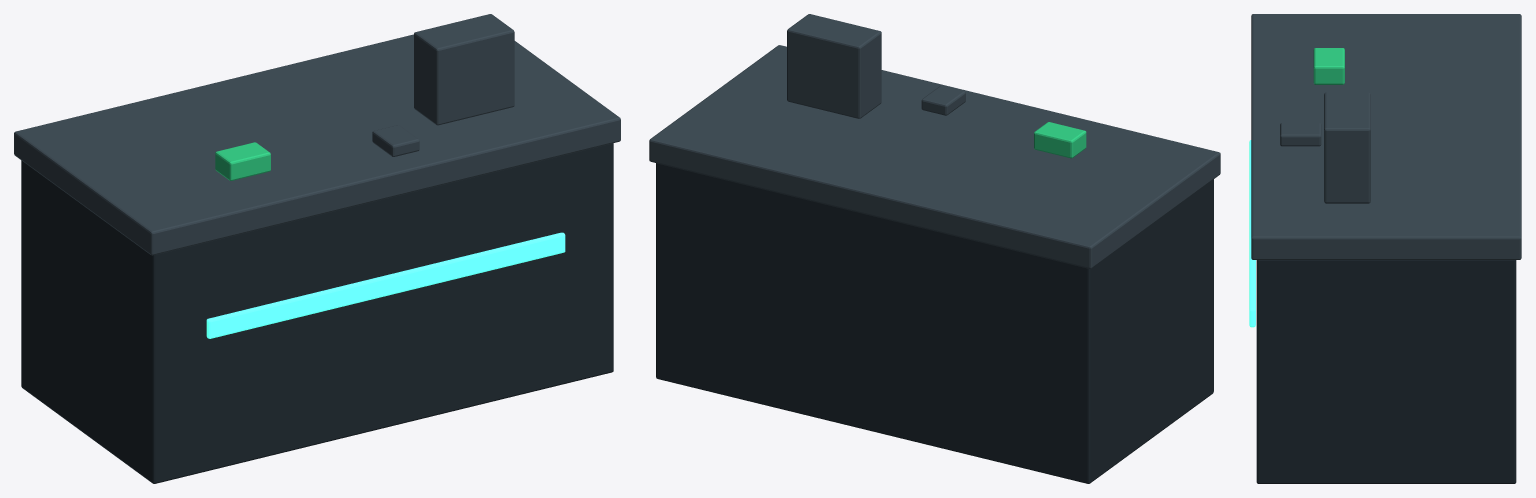
File: CC_S16_P2_Furniture_CheckoutCounter_LOD0.fbx
3 views of the same model, side by side, from view 1: azimuth 30°, elevation 25°; view 2: azimuth 150°, elevation 25°; view 3: azimuth 270°, elevation 25° (orthographic). The views are drawn at different scales.
Parts seen in each view (by area): view 1: CC_S16_P2_Furniture_CheckoutCounter_LOD0_Body, CC_S16_P2_Furniture_CheckoutCounter_LOD0_Countertop, CC_S16_P2_Furniture_CheckoutCounter_LOD0_POSTerminal, CC_S16_P2_Furniture_CheckoutCounter_LOD0_Accent, CC_S16_P2_Furniture_CheckoutCounter_LOD0_Scanner, CC_S16_P2_Furniture_CheckoutCounter_LOD0_CardReader; view 2: CC_S16_P2_Furniture_CheckoutCounter_LOD0_Body, CC_S16_P2_Furniture_CheckoutCounter_LOD0_Countertop, CC_S16_P2_Furniture_CheckoutCounter_LOD0_POSTerminal, CC_S16_P2_Furniture_CheckoutCounter_LOD0_Scanner, CC_S16_P2_Furniture_CheckoutCounter_LOD0_CardReader; view 3: CC_S16_P2_Furniture_CheckoutCounter_LOD0_Countertop, CC_S16_P2_Furniture_CheckoutCounter_LOD0_Body, CC_S16_P2_Furniture_CheckoutCounter_LOD0_POSTerminal, CC_S16_P2_Furniture_CheckoutCounter_LOD0_Scanner, CC_S16_P2_Furniture_CheckoutCounter_LOD0_CardReader, CC_S16_P2_Furniture_CheckoutCounter_LOD0_Accent.
Boxes of the visible parts, x1,y1,x2,y2 form: CC_S16_P2_Furniture_CheckoutCounter_LOD0_Body: (21, 143, 613, 483); CC_S16_P2_Furniture_CheckoutCounter_LOD0_Countertop: (14, 34, 620, 255); CC_S16_P2_Furniture_CheckoutCounter_LOD0_POSTerminal: (414, 14, 514, 125); CC_S16_P2_Furniture_CheckoutCounter_LOD0_Accent: (206, 232, 565, 338); CC_S16_P2_Furniture_CheckoutCounter_LOD0_Scanner: (215, 142, 270, 180); CC_S16_P2_Furniture_CheckoutCounter_LOD0_CardReader: (372, 125, 419, 156); CC_S16_P2_Furniture_CheckoutCounter_LOD0_Body: (656, 163, 1213, 483); CC_S16_P2_Furniture_CheckoutCounter_LOD0_Countertop: (649, 45, 1220, 268); CC_S16_P2_Furniture_CheckoutCounter_LOD0_POSTerminal: (787, 14, 881, 118); CC_S16_P2_Furniture_CheckoutCounter_LOD0_Scanner: (1034, 122, 1086, 158); CC_S16_P2_Furniture_CheckoutCounter_LOD0_CardReader: (921, 85, 965, 115); CC_S16_P2_Furniture_CheckoutCounter_LOD0_Countertop: (1251, 14, 1521, 259); CC_S16_P2_Furniture_CheckoutCounter_LOD0_Body: (1256, 260, 1516, 483); CC_S16_P2_Furniture_CheckoutCounter_LOD0_POSTerminal: (1324, 92, 1370, 203); CC_S16_P2_Furniture_CheckoutCounter_LOD0_Scanner: (1313, 48, 1344, 84); CC_S16_P2_Furniture_CheckoutCounter_LOD0_CardReader: (1280, 123, 1321, 146); CC_S16_P2_Furniture_CheckoutCounter_LOD0_Accent: (1249, 140, 1255, 327).
Size of what is drawn, in the model's own units: 2.04 by 1.38 by 1.05.
